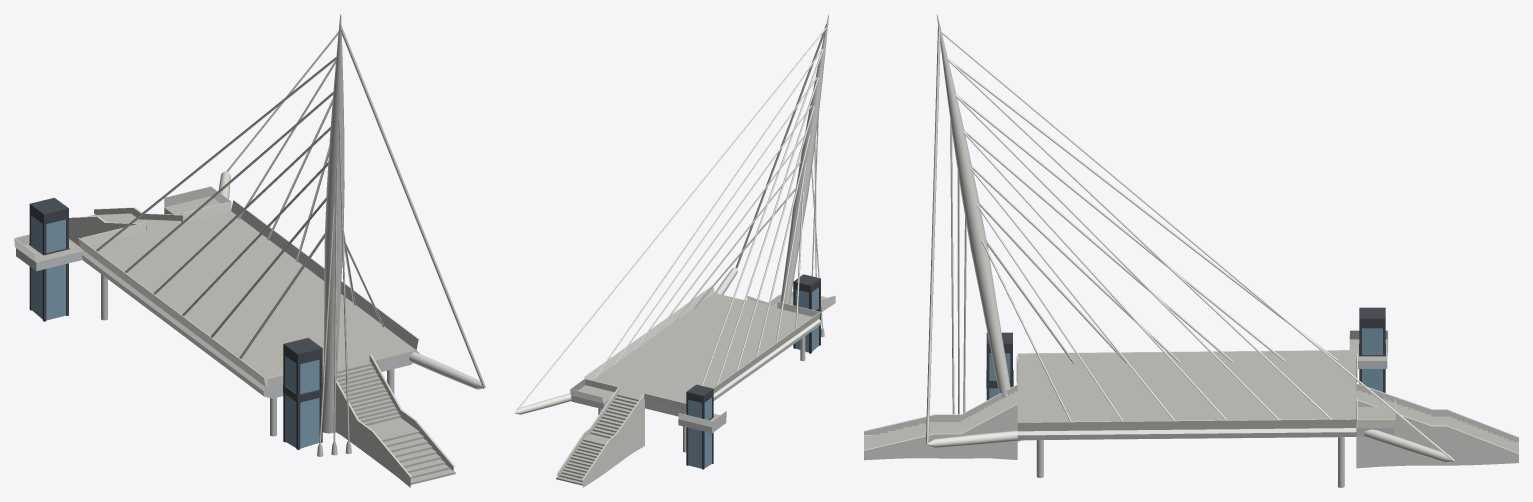
File: den-millennium-bridge.glb
3 renders of one model, left to right at view 1: azimuth 30°, elevation 25°; view 2: azimuth 150°, elevation 25°; view 3: azimuth 270°, elevation 25°, orthographic. The views are drawn at different scales.
Parts seen in each view (by area): view 1: Denver Millennium Bridge; view 2: Denver Millennium Bridge; view 3: Denver Millennium Bridge.
Part boxes in pixels (<box>): Denver Millennium Bridge: <box>14,14,485,487</box>; Denver Millennium Bridge: <box>514,14,835,487</box>; Denver Millennium Bridge: <box>864,14,1518,487</box>.
Size of the model in its own units: 34.91 by 62.32 by 87.
